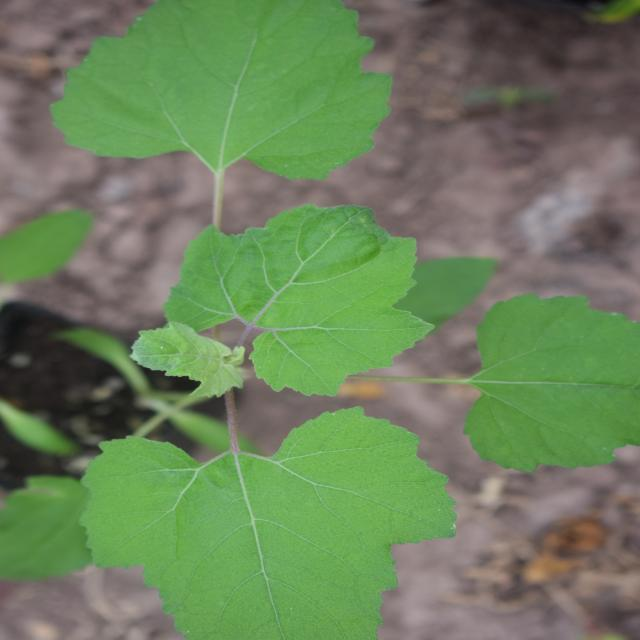cocklebur: (1, 72, 620, 602)
